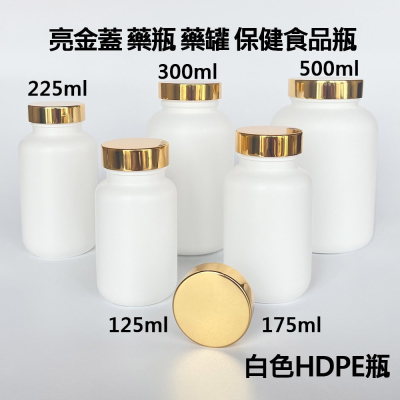medicinejar: (274, 78, 386, 256), (149, 80, 242, 266), (231, 129, 315, 302), (98, 139, 178, 312), (22, 104, 96, 271)
